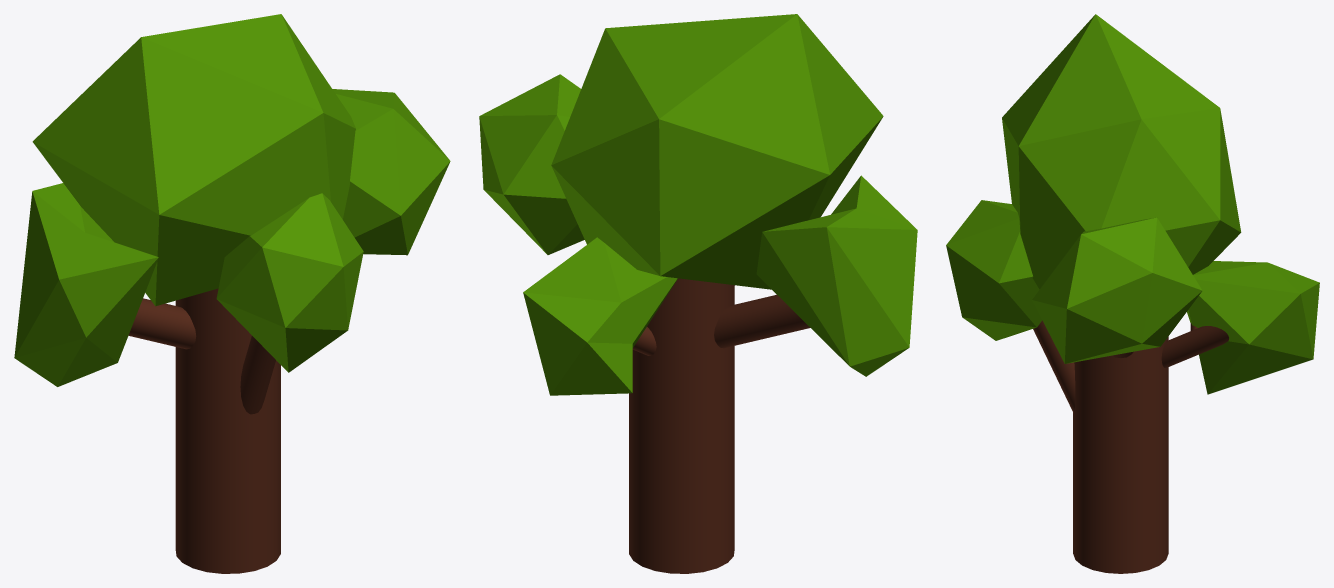
File: Tree 2.fbx
3 renders of one model, left to right at view 1: azimuth 30°, elevation 25°; view 2: azimuth 150°, elevation 25°; view 3: azimuth 270°, elevation 25°, orthographic. The views are drawn at different scales.
Visible parts, largest first — view 1: pPlatonic1, pCylinder1, pPlatonic4, pPlatonic3, pPlatonic2, pCylinder5, pCylinder3; view 2: pPlatonic1, pCylinder1, pPlatonic4, pPlatonic5, pPlatonic2, pCylinder5; view 3: pPlatonic1, pCylinder1, pPlatonic2, pPlatonic5, pPlatonic3, pCylinder6, pCylinder3.
Boxes of the visible parts, x1,y1,x2,y2 form: pPlatonic1: [32, 14, 355, 306]; pCylinder1: [175, 288, 280, 573]; pPlatonic4: [14, 183, 158, 386]; pPlatonic3: [216, 193, 363, 372]; pPlatonic2: [332, 89, 450, 255]; pCylinder5: [128, 298, 196, 349]; pCylinder3: [240, 336, 275, 414]; pPlatonic1: [551, 14, 883, 289]; pCylinder1: [629, 278, 734, 573]; pPlatonic4: [756, 175, 917, 376]; pPlatonic5: [523, 237, 677, 395]; pPlatonic2: [479, 74, 584, 254]; pCylinder5: [714, 294, 810, 348]; pPlatonic1: [1002, 14, 1241, 289]; pCylinder1: [1073, 336, 1168, 573]; pPlatonic2: [1032, 217, 1202, 363]; pPlatonic5: [1187, 261, 1319, 394]; pPlatonic3: [946, 200, 1042, 340]; pCylinder6: [1161, 326, 1228, 367]; pCylinder3: [1033, 320, 1075, 413].
Bounding box in the file's own units: 9 × 11.46 × 7.84.
